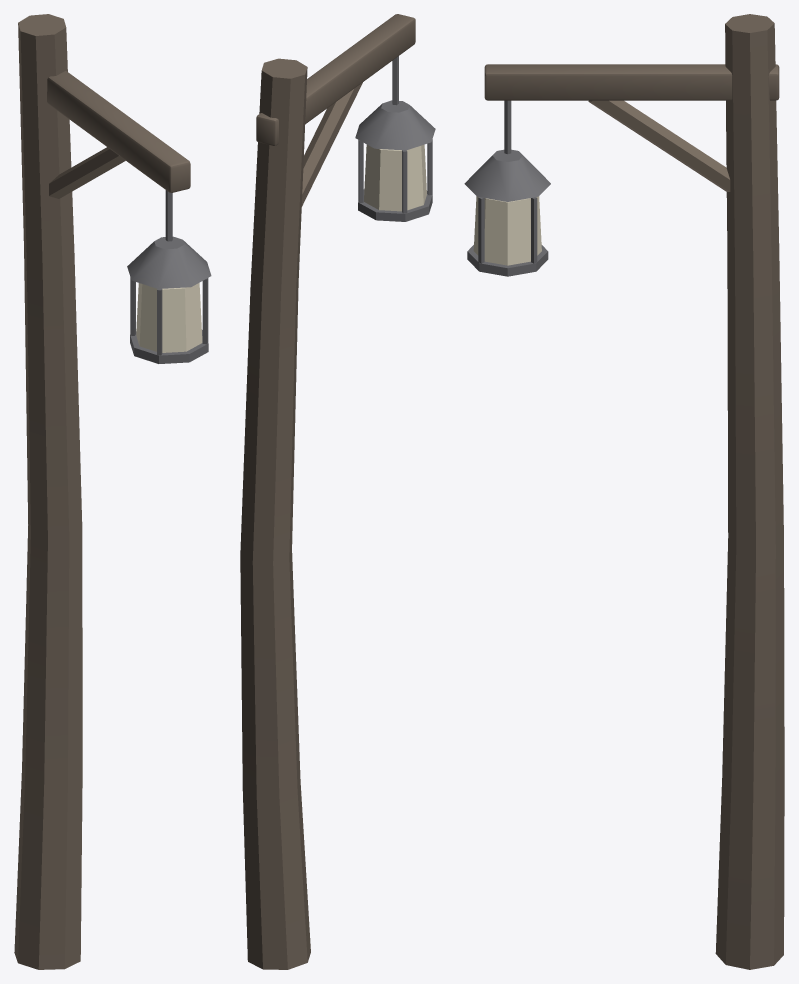
Rendered from quest_lamp_post.gltf.
The picture shows the model from 3 angles, left to right: view 1: azimuth 30°, elevation 25°; view 2: azimuth 150°, elevation 25°; view 3: azimuth 270°, elevation 25°; orthographic projection. The views are drawn at different scales.
Parts seen in each view (by area): view 1: Body, Lantern, GlowLamp; view 2: Body, Lantern, GlowLamp; view 3: Body, Lantern, GlowLamp.
Part boxes in pixels (x1,y1,x2,y2): Body: (14, 14, 190, 969); Lantern: (127, 190, 211, 363); GlowLamp: (136, 283, 202, 352); Body: (240, 14, 415, 969); Lantern: (355, 56, 435, 221); GlowLamp: (364, 144, 426, 211); Body: (484, 14, 784, 969); Lantern: (464, 100, 550, 276); GlowLamp: (473, 196, 541, 265).
Size of the model in its own units: 0.28 by 3.31 by 1.03.
